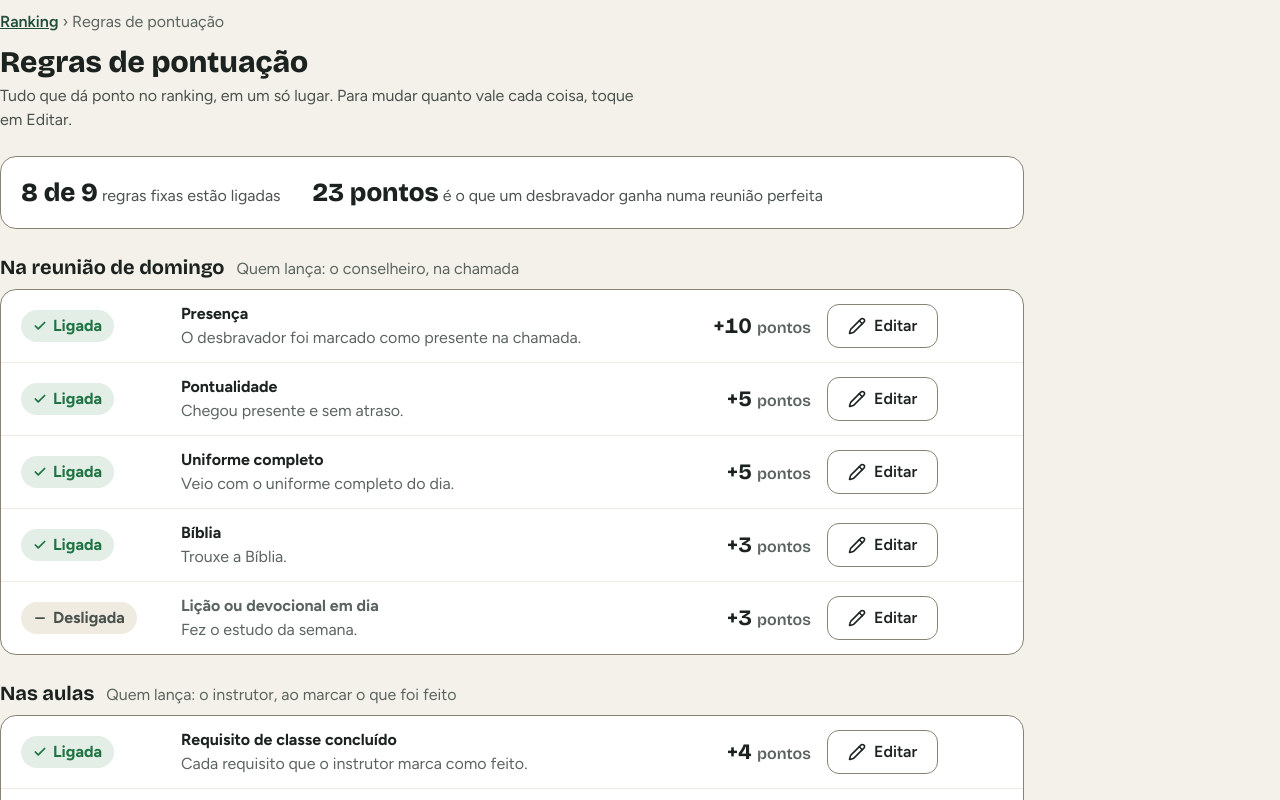
Painel da regra · caixa de efeito › na reunião mostra de quanto para quanto vai a reunião perfeita, e se atualiza ao digitar
Click the button with aria-label "Editar Presença" at (883, 326), box x1=827 y1=304 x2=938 y2=348
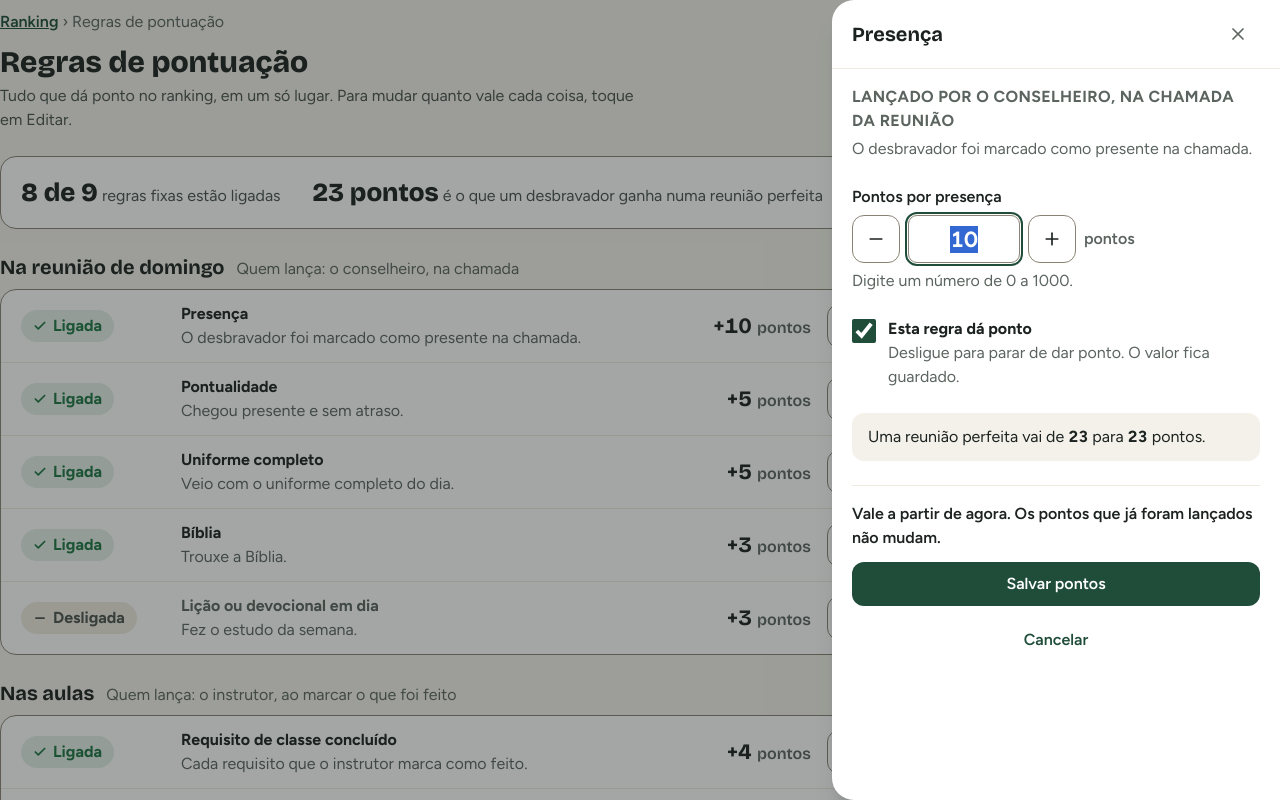
expect the text "Uma reunião perfeita vai de 23 para 23 pontos." is shown: met, box x1=852 y1=413 x2=1260 y2=461
Replace the text in the field labelled "Pontos por presença" with "12" at (964, 239), box x1=908 y1=215 x2=1020 y2=263
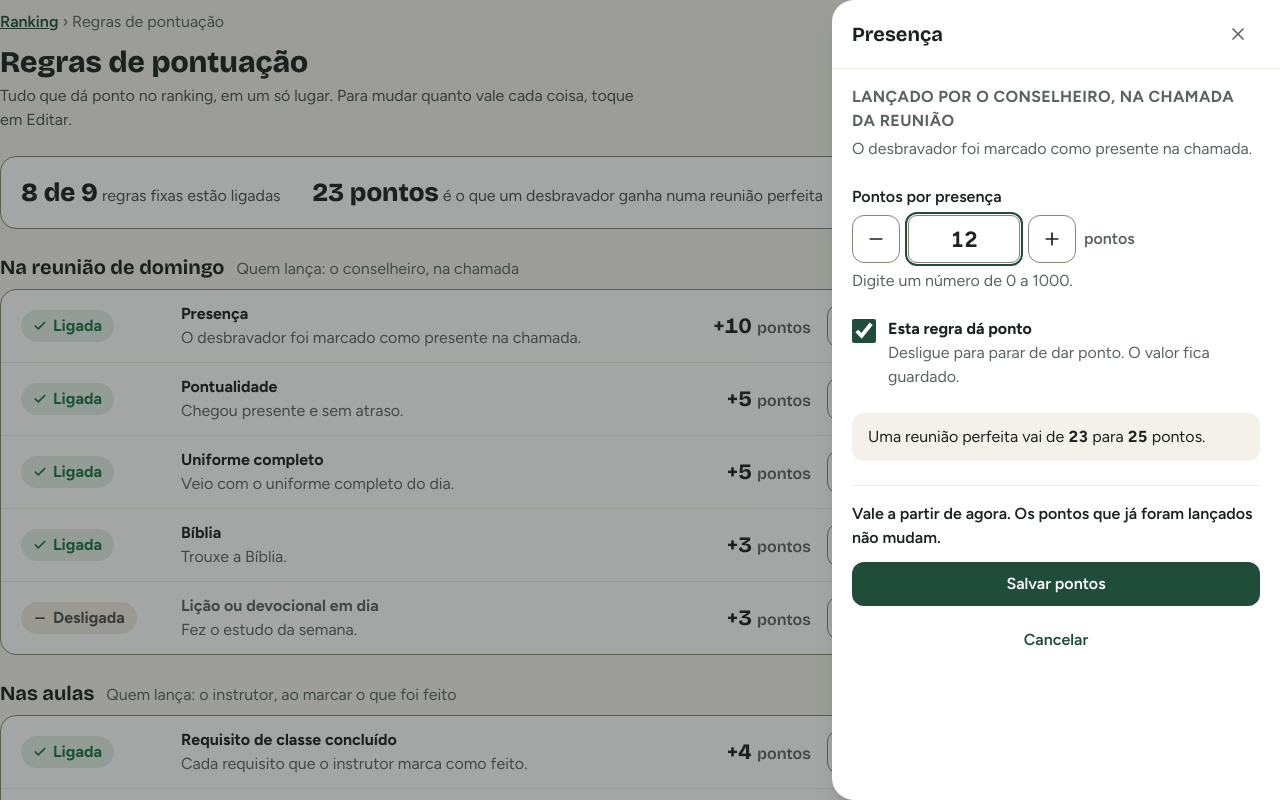
expect the text "Uma reunião perfeita vai de 23 para 25 pontos." is shown: met, box x1=852 y1=413 x2=1260 y2=461
